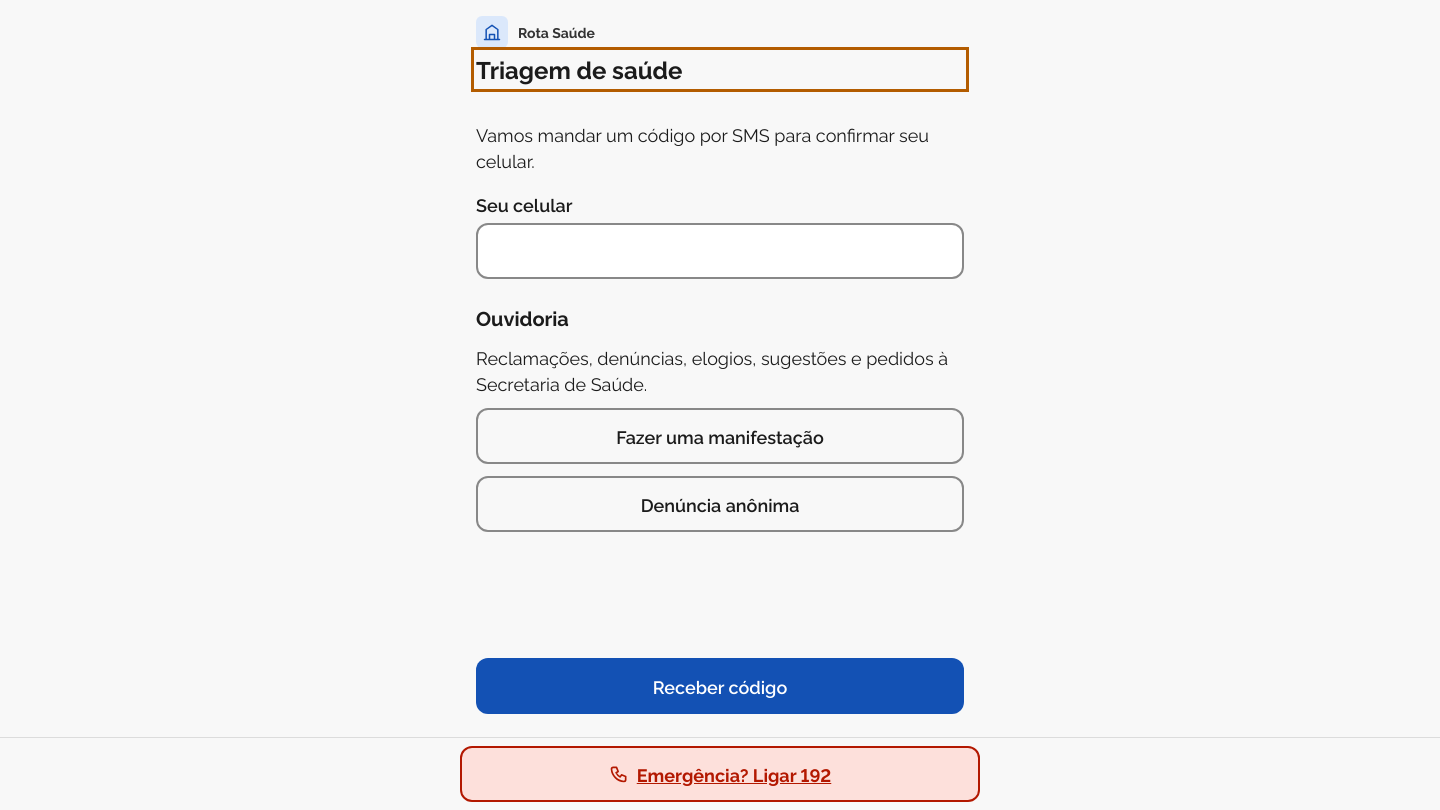
Test: Flow — Ouvidoria (módulo 33) › Fazer uma manifestação: entra com o celular e cai na Ouvidoria, sem o termo da triagem
Click the button "Fazer uma manifestação" at point(720, 436), box top-left (476, 408), bottom-right (964, 464)
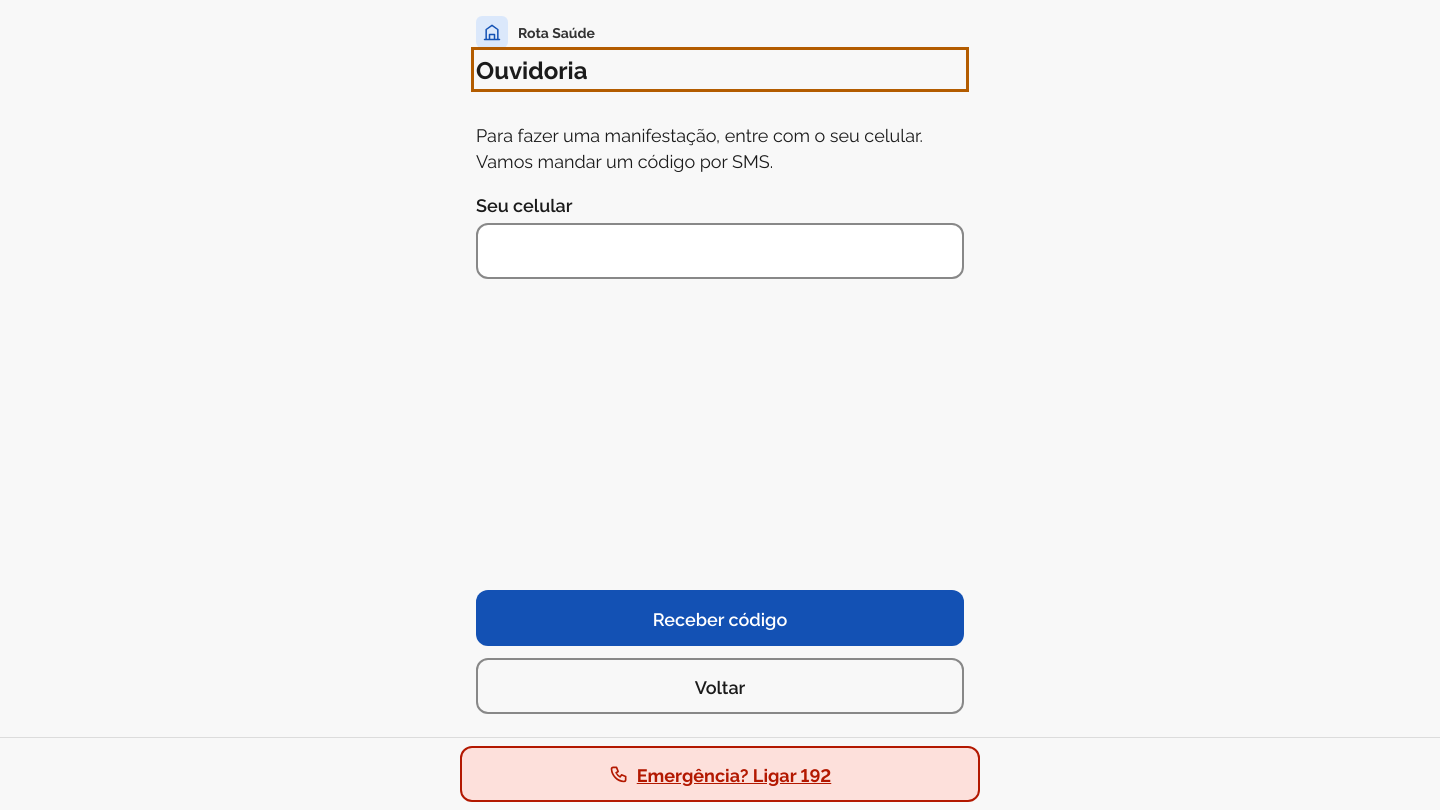
expect the heading "Ouvidoria" is shown: met, box top-left (476, 52), bottom-right (587, 85)
Type "41998765432" into the field labelled "Seu celular" at point(720, 251), box top-left (476, 223), bottom-right (964, 279)
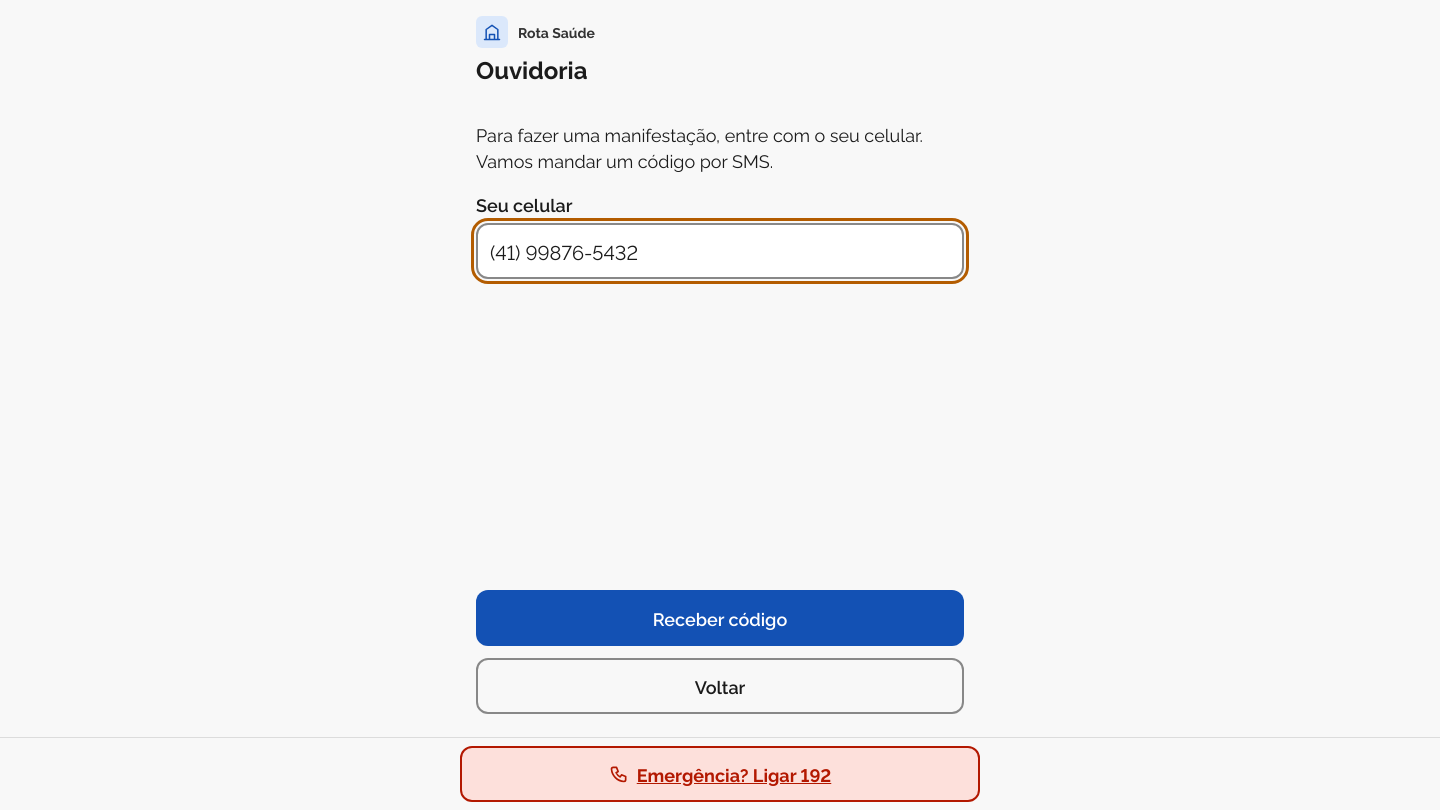
Click the button "Receber código" at point(720, 618), box top-left (476, 590), bottom-right (964, 646)
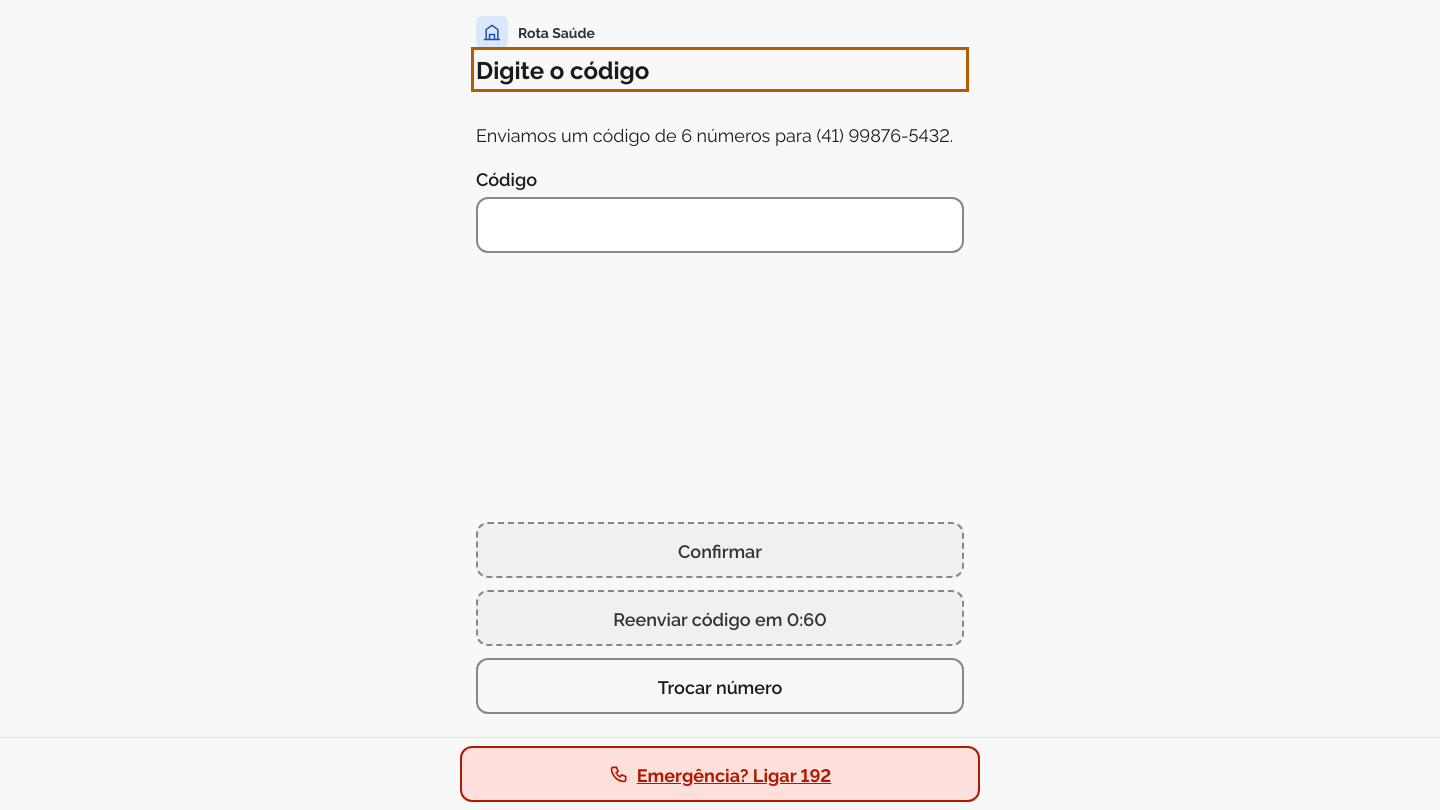
Type "123456" into the field labelled "Código" at point(720, 225), box top-left (476, 197), bottom-right (964, 253)
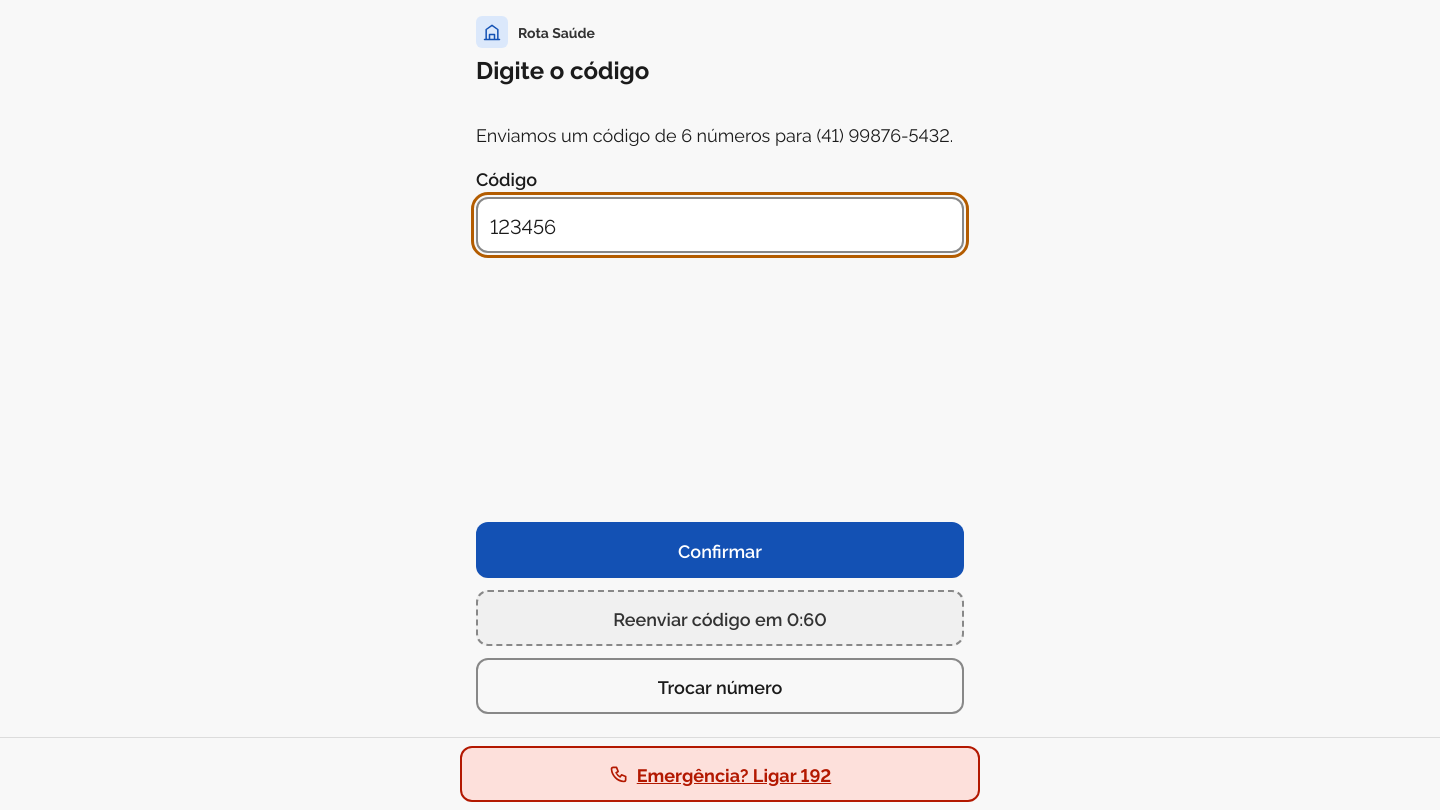
Click the button "Confirmar" at point(720, 550), box top-left (476, 522), bottom-right (964, 578)
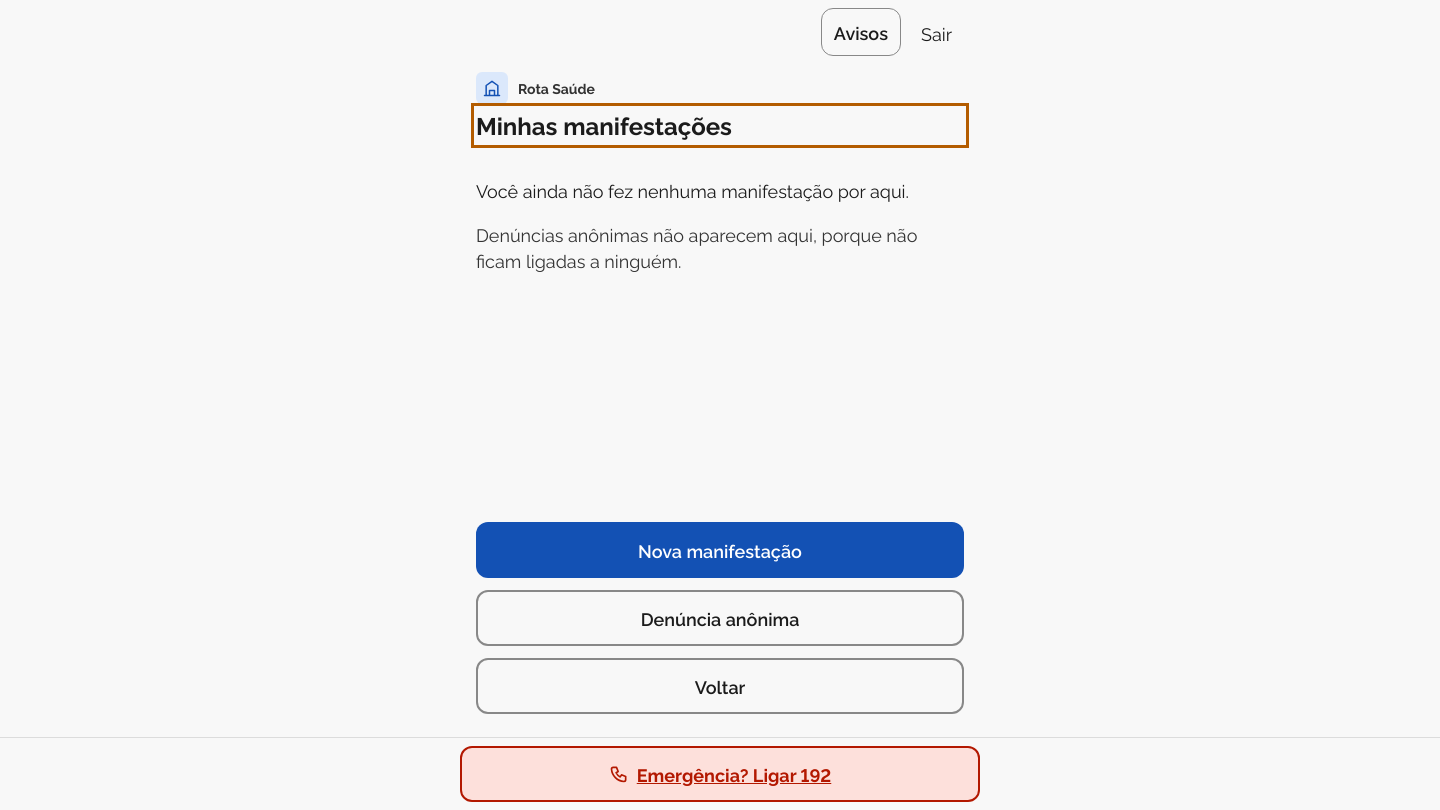
expect the heading "Minhas manifestações" is shown: met, box top-left (476, 108), bottom-right (732, 141)
